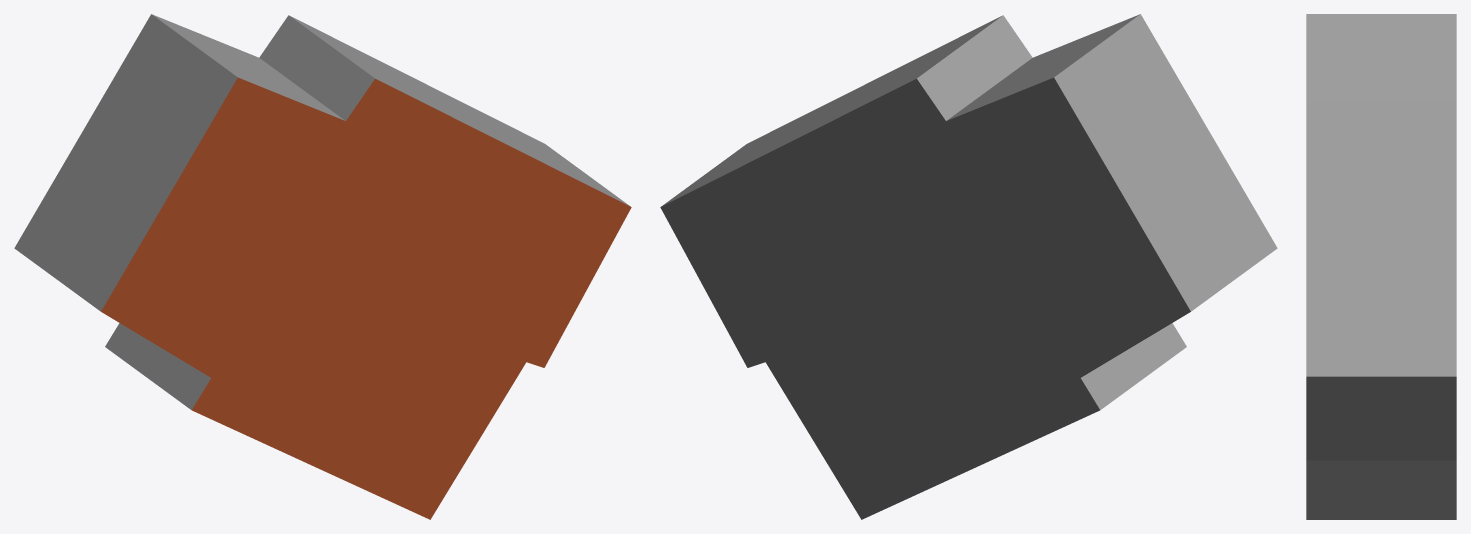
Rendered from construction_5036_assumed_A_Casa_h6m.obj.
3 views of the same model, side by side, from view 1: azimuth 30°, elevation 25°; view 2: azimuth 150°, elevation 25°; view 3: azimuth 270°, elevation 25° (orthographic). The views are drawn at different scales.
Visible parts, largest first — view 1: construction_5036_assumed_A_Casa; view 2: construction_5036_assumed_A_Casa; view 3: construction_5036_assumed_A_Casa.
Boxes of the visible parts, bbox=[...] form: construction_5036_assumed_A_Casa: bbox=[14, 14, 631, 519]; construction_5036_assumed_A_Casa: bbox=[660, 14, 1277, 519]; construction_5036_assumed_A_Casa: bbox=[1306, 14, 1456, 519].
Bounding box in the file's own units: 21.21 × 18.69 × 6.
